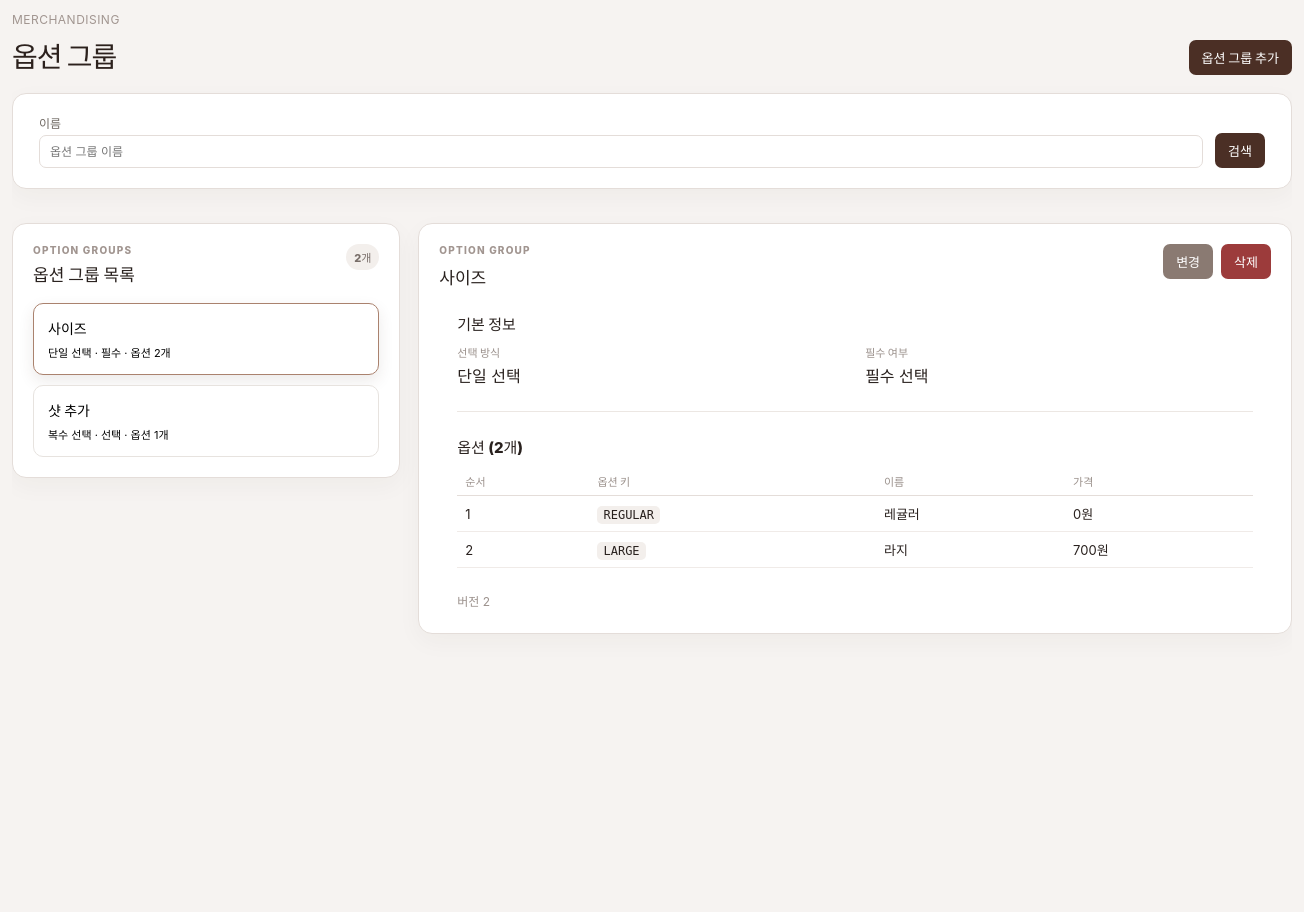
Test: OptionGroupsPage › 다른 옵션 그룹을 선택하면 상세가 바뀐다
Click the button "샷 추가 복수 선택 · 선택 · 옵션 1개" at [69, 410], box [33,385,379,457]
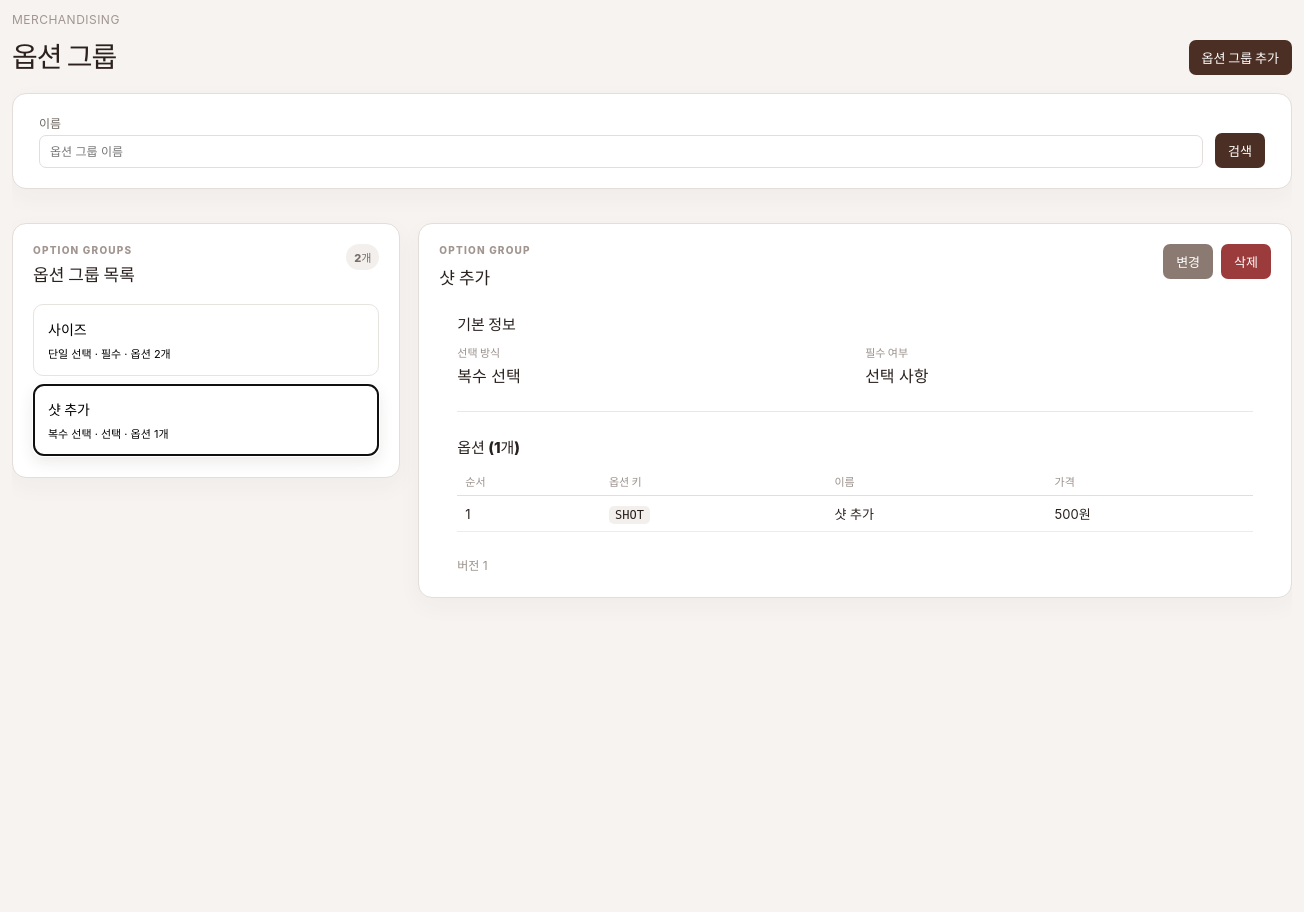
Expected: the text "복수 선택" is shown, [457,366,521,386]
Expected: the text "선택 사항" is shown, [865,366,928,386]
